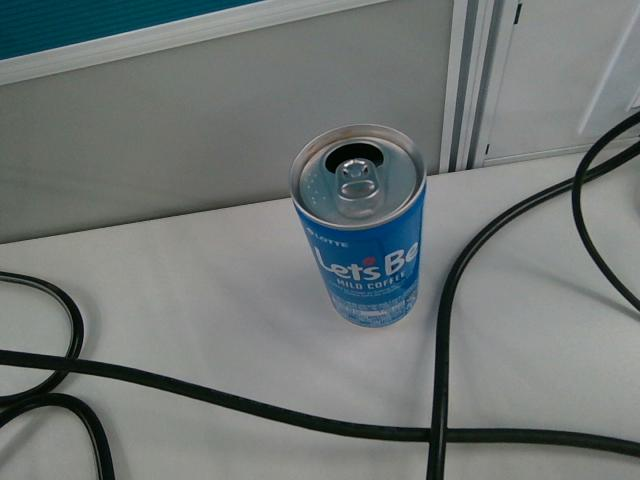letsbe: (287, 122, 427, 328)
